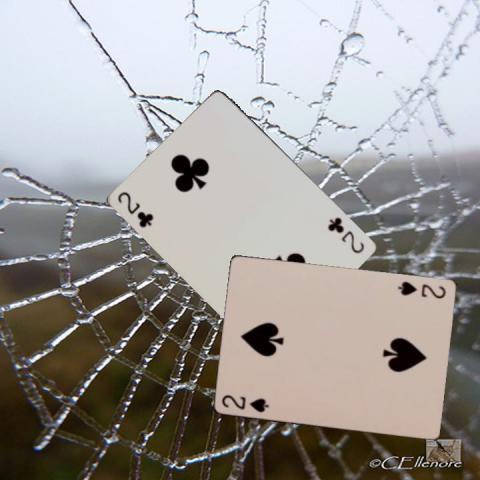2c: (325, 214, 366, 255), (115, 189, 155, 229)
2s: (218, 392, 270, 414), (394, 279, 447, 300)
